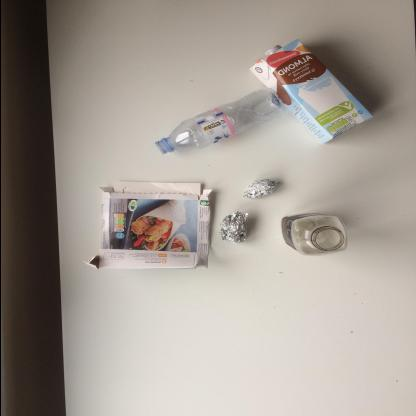karton: (248, 39, 372, 145), (82, 181, 213, 270)
metal: (218, 210, 248, 244), (242, 178, 280, 198)
plastik: (153, 89, 285, 154), (280, 212, 348, 256)
